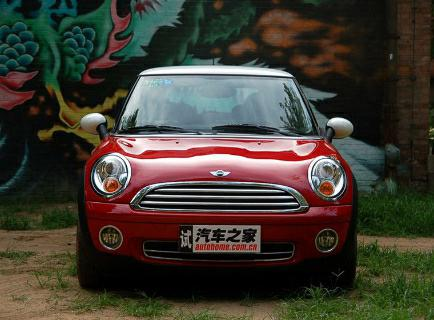MINI: (75, 70, 360, 293)
